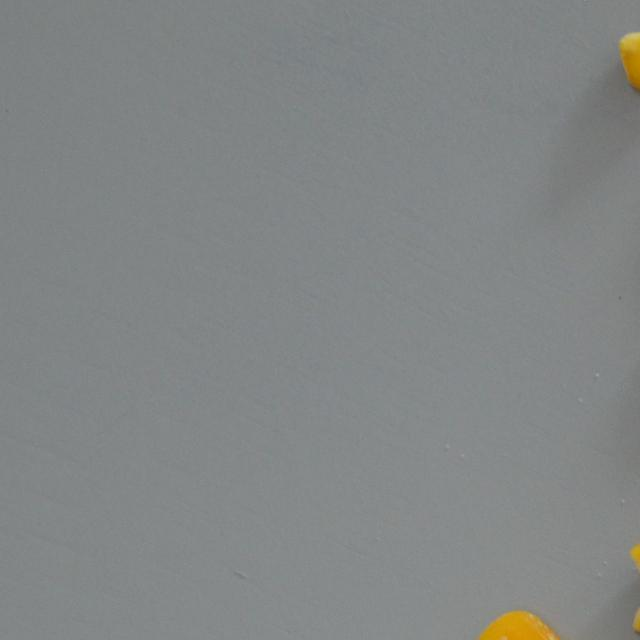no_canjicado: (627, 525, 640, 640)
pelicula: (468, 610, 582, 640), (618, 18, 640, 91)
